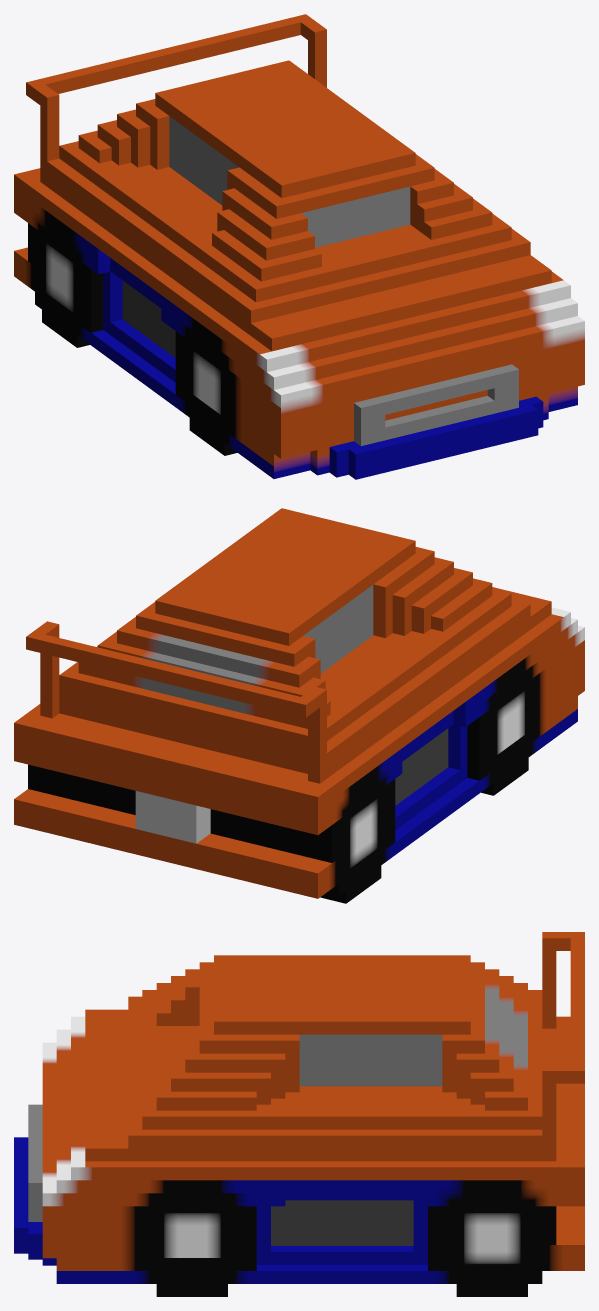
File: Car_25.fbx
3 views of the same model, one above another, from view 1: azimuth 30°, elevation 25°; view 2: azimuth 150°, elevation 25°; view 3: azimuth 270°, elevation 25° (orthographic).
Visible parts, largest first — view 1: Car_25; view 2: Car_25; view 3: Car_25.
Boxes of the visible parts, left/top/right/bottom form: Car_25: left=14, top=14, right=584, bottom=479; Car_25: left=14, top=508, right=584, bottom=903; Car_25: left=14, top=932, right=584, bottom=1296.
Size of the model in its own units: 25 by 18 by 40.
1 material, 1 textured.
